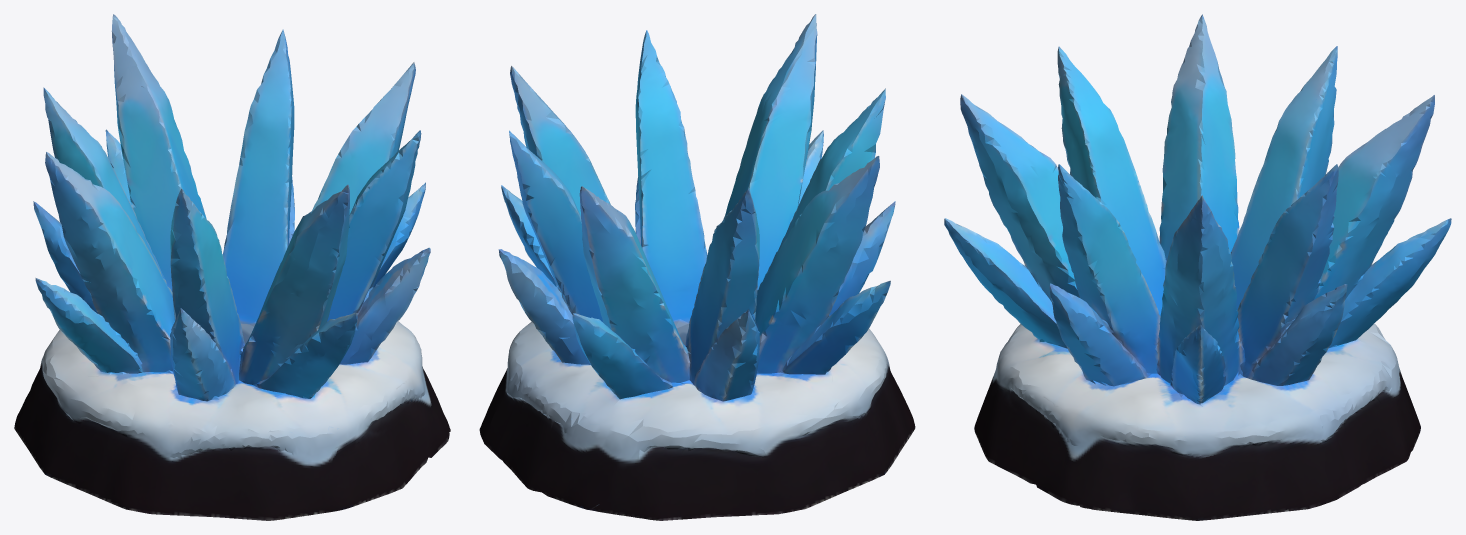
Rendered from Tundra_IceCrystal.glb.
The picture shows the model from 3 angles, left to right: view 1: azimuth 30°, elevation 25°; view 2: azimuth 150°, elevation 25°; view 3: azimuth 270°, elevation 25°; orthographic projection.
Parts seen in each view (by area): view 1: Tundra_IceCrystal; view 2: Tundra_IceCrystal; view 3: Tundra_IceCrystal.
Boxes of the visible parts, left/top/right/bottom form: Tundra_IceCrystal: left=14, top=14, right=450, bottom=520; Tundra_IceCrystal: left=479, top=14, right=915, bottom=520; Tundra_IceCrystal: left=944, top=14, right=1451, bottom=520.
Size of the model in its own units: 1.3 by 1.05 by 1.45.
Materials: 1 (1 with a texture image).
